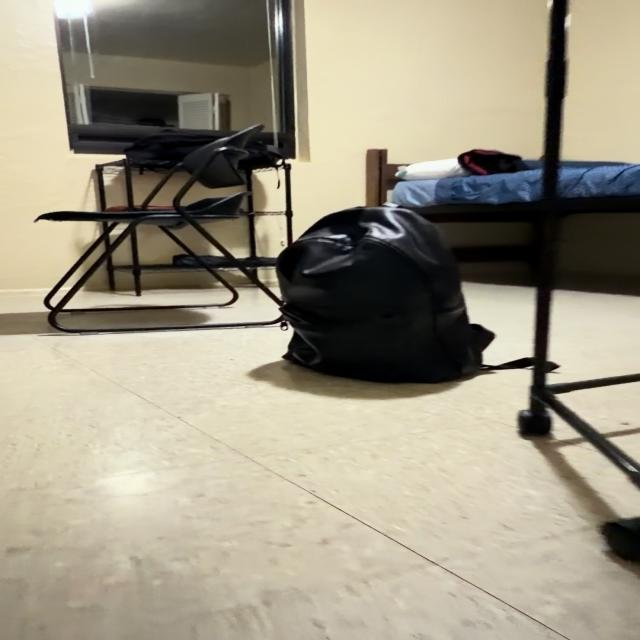backpack: (277, 206, 494, 382), (125, 130, 220, 167), (239, 140, 282, 170), (495, 359, 530, 368)
